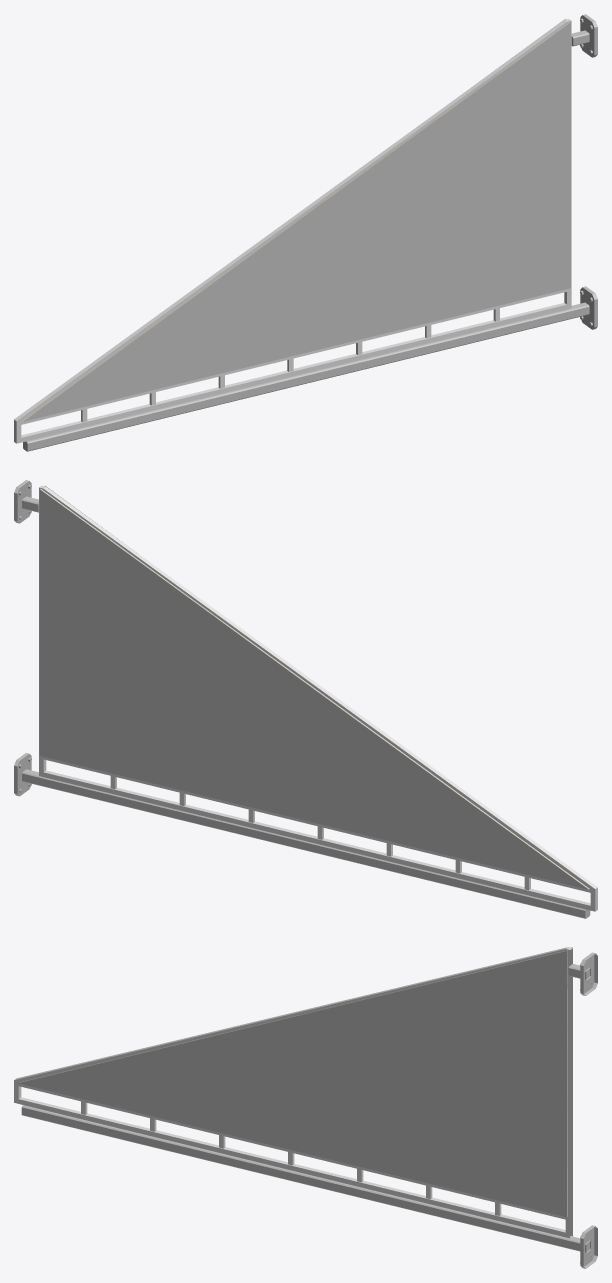
File: KB3D_CBP_Billboard_H.fbx
3 views of the same model, one above another, from view 1: azimuth 30°, elevation 25°; view 2: azimuth 150°, elevation 25°; view 3: azimuth 330°, elevation 25° (orthographic).
Visible parts, largest first — view 1: KB3D_CBP_Billboard_H_Main; view 2: KB3D_CBP_Billboard_H_Main; view 3: KB3D_CBP_Billboard_H_Main.
Part boxes in pixels (box(x1,y1,x2,y2)): KB3D_CBP_Billboard_H_Main: box(14, 14, 597, 451); KB3D_CBP_Billboard_H_Main: box(14, 480, 597, 918); KB3D_CBP_Billboard_H_Main: box(14, 947, 597, 1268).
Bounding box in the file's own units: 556 × 287 × 23.84.
